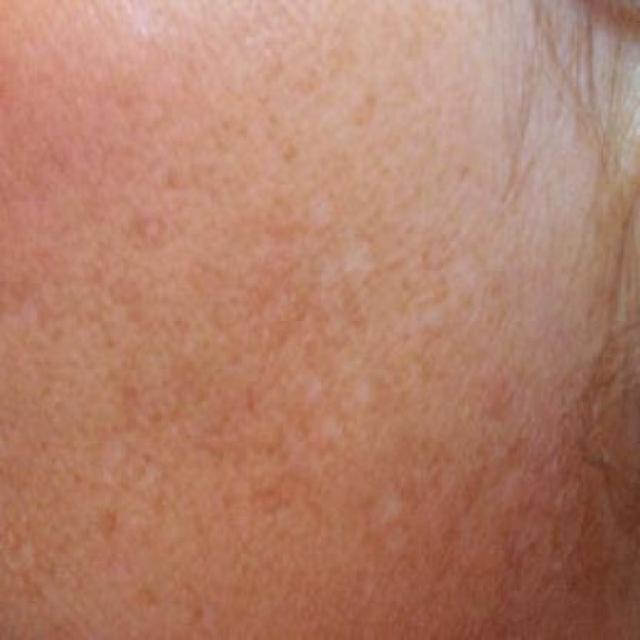Melasma: (24, 32, 576, 632)
